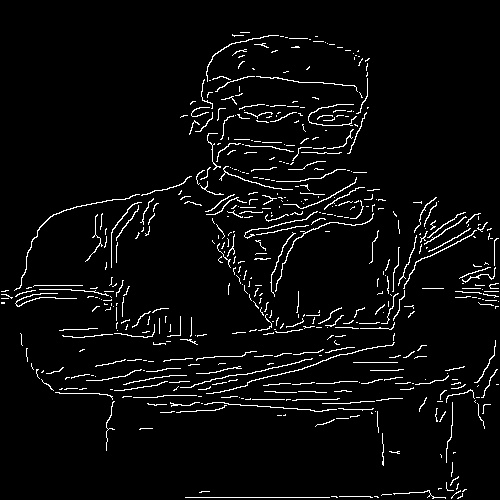mask: (217, 137, 348, 187)
